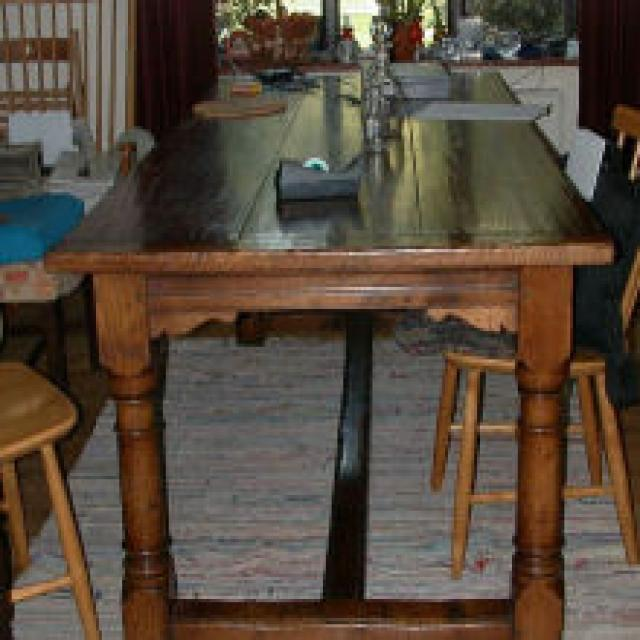table: (46, 68, 612, 640)
